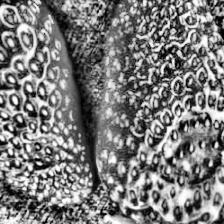Anthracnose Fruit Rot: (156, 111, 224, 187), (15, 134, 66, 168)
